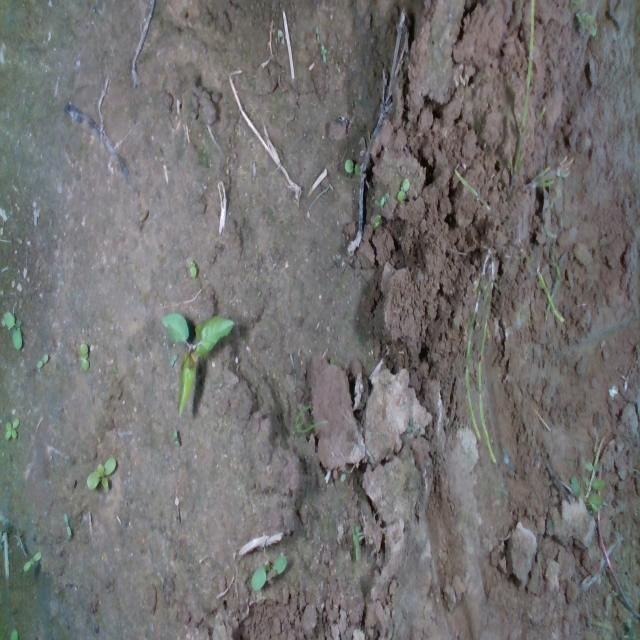weed: (250, 552, 287, 591), (84, 454, 116, 492), (2, 310, 22, 351), (22, 548, 42, 572), (3, 415, 20, 441), (78, 342, 90, 374), (396, 175, 410, 201), (344, 156, 362, 174), (62, 511, 72, 539), (35, 351, 49, 369)
